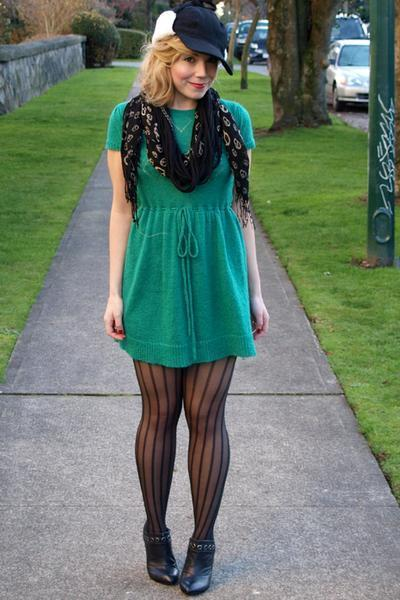dress: (105, 98, 257, 367)
hat: (171, 20, 228, 58)
shoe: (147, 545, 214, 596)
